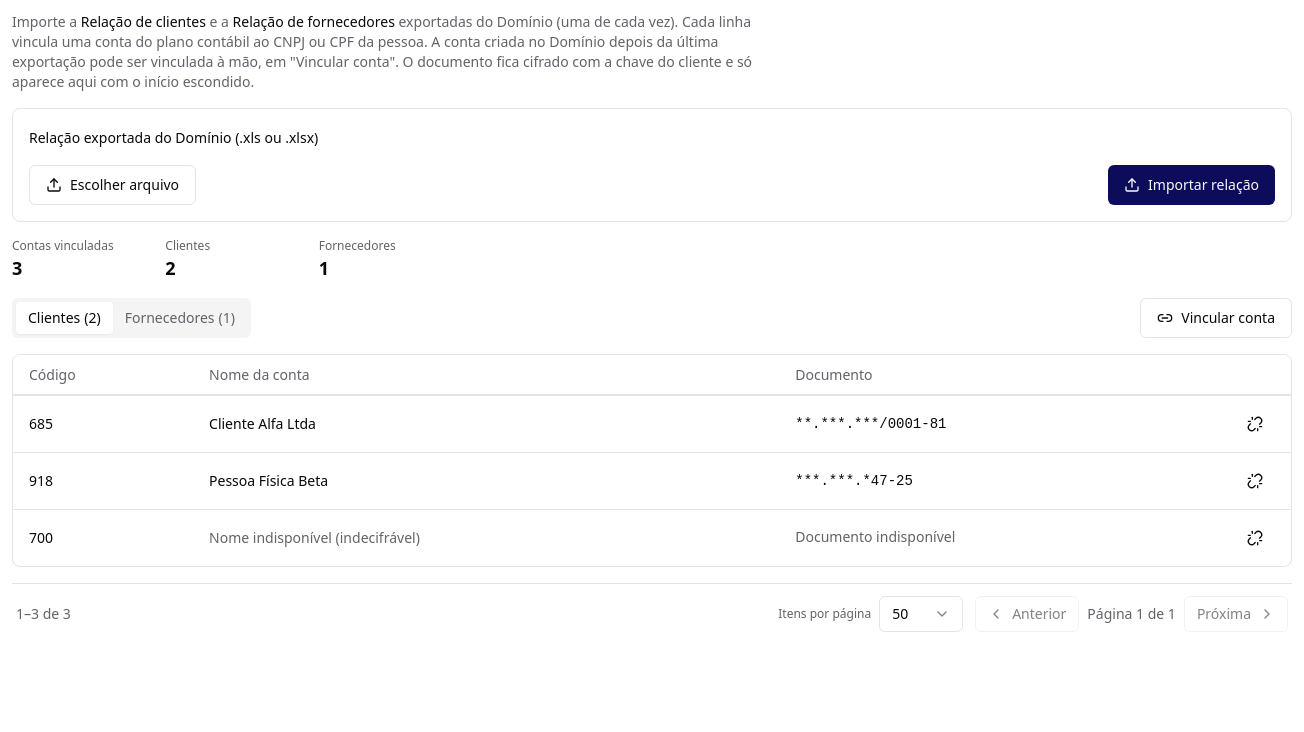
Scenario: importar a relação › sem arquivo, o zod recusa no cliente e nada é enviado
Click the button "Importar relação" at (1192, 185), box [1108, 165, 1275, 205]
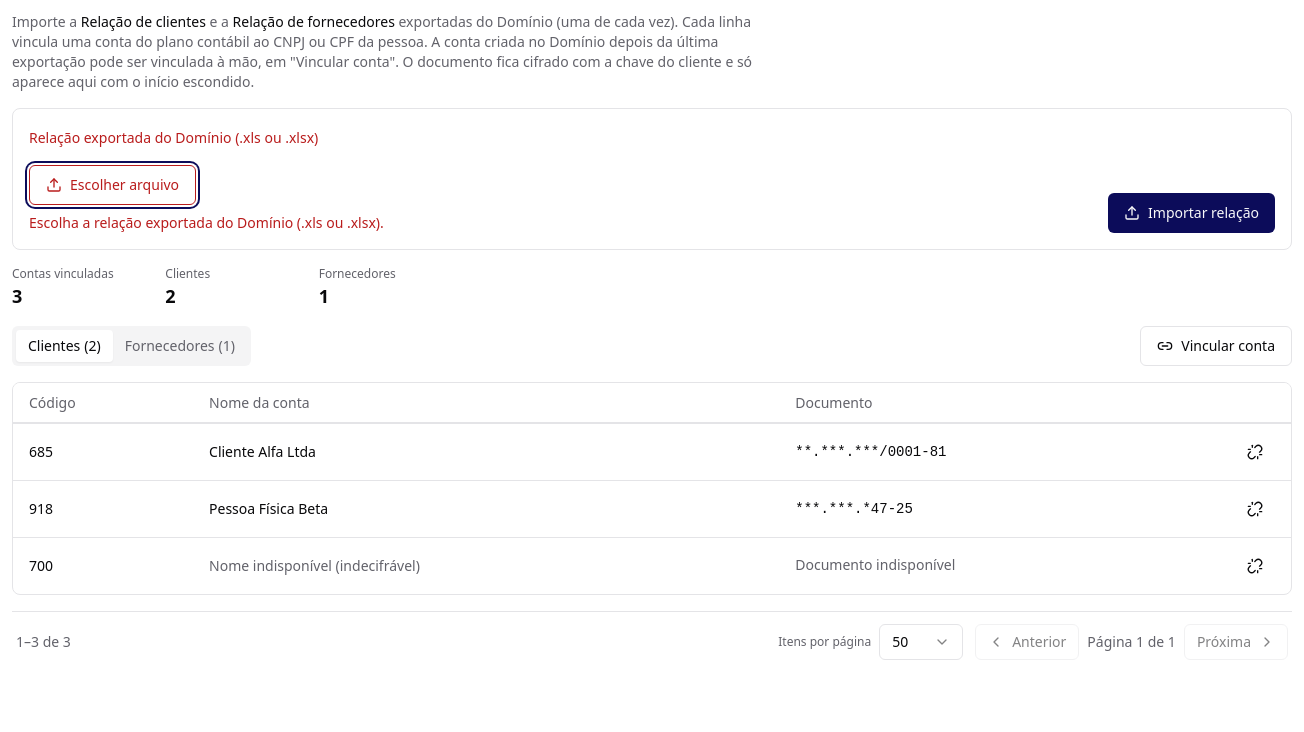
expect the text "Escolha a relação exportada do Domínio (.xls ou .xlsx)." is shown: met, box [29, 213, 384, 232]
